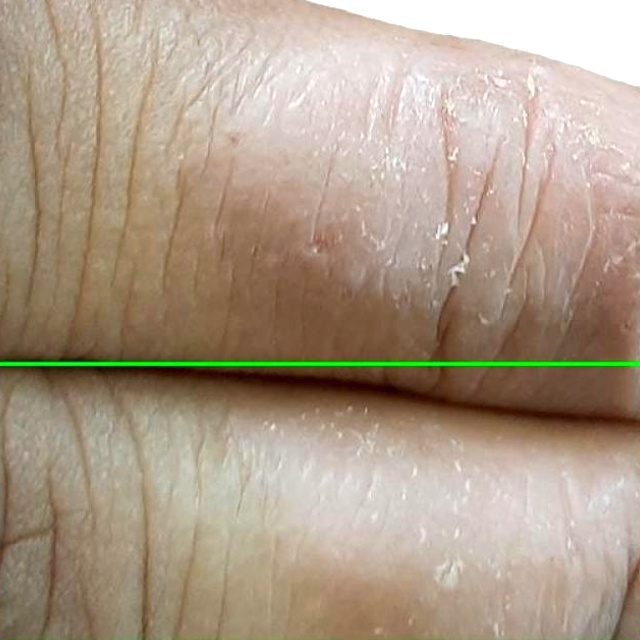Eczema: (0, 365, 639, 639)
